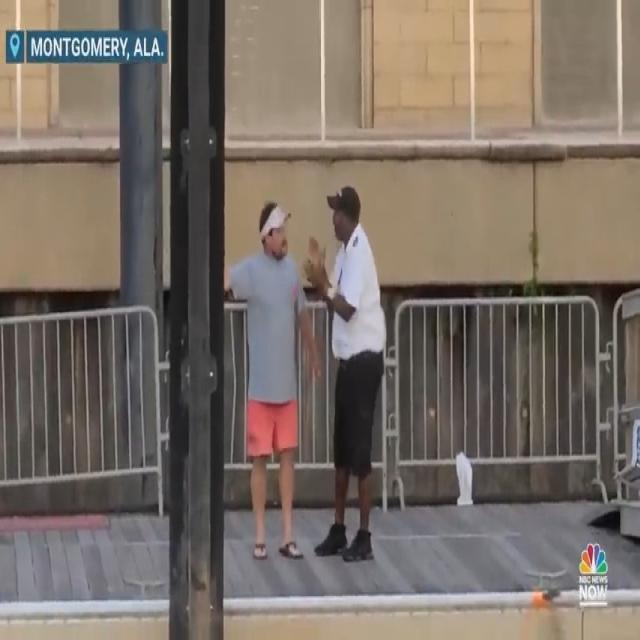non-fight: (230, 187, 394, 594)
